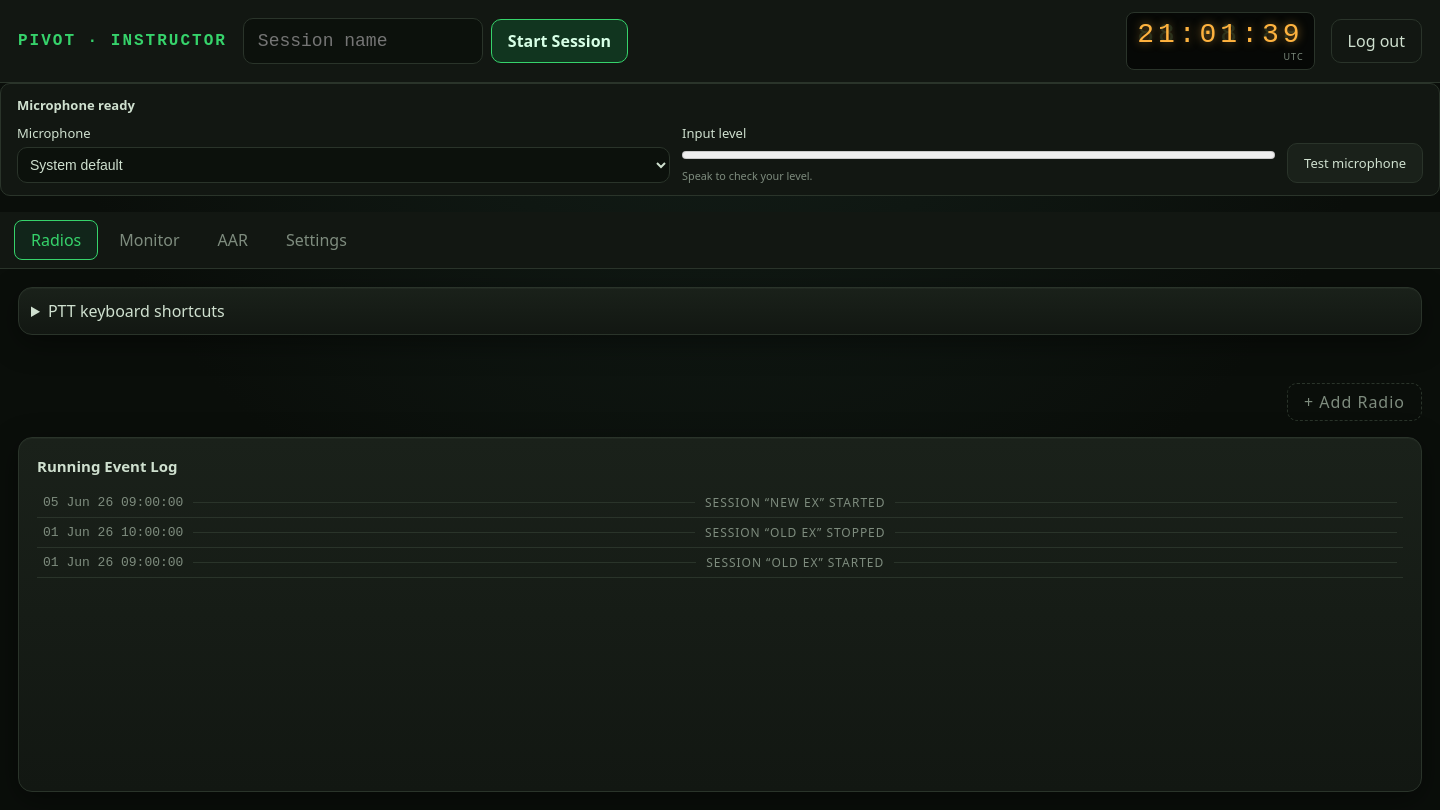
Scenario: InstructorConsole › AAR tab lists sessions newest-first and shows the selected session transmissions
The width and height of the screenshot is (1440, 810).
Click the tab "AAR" at (233, 240), box [200,220,265,260]
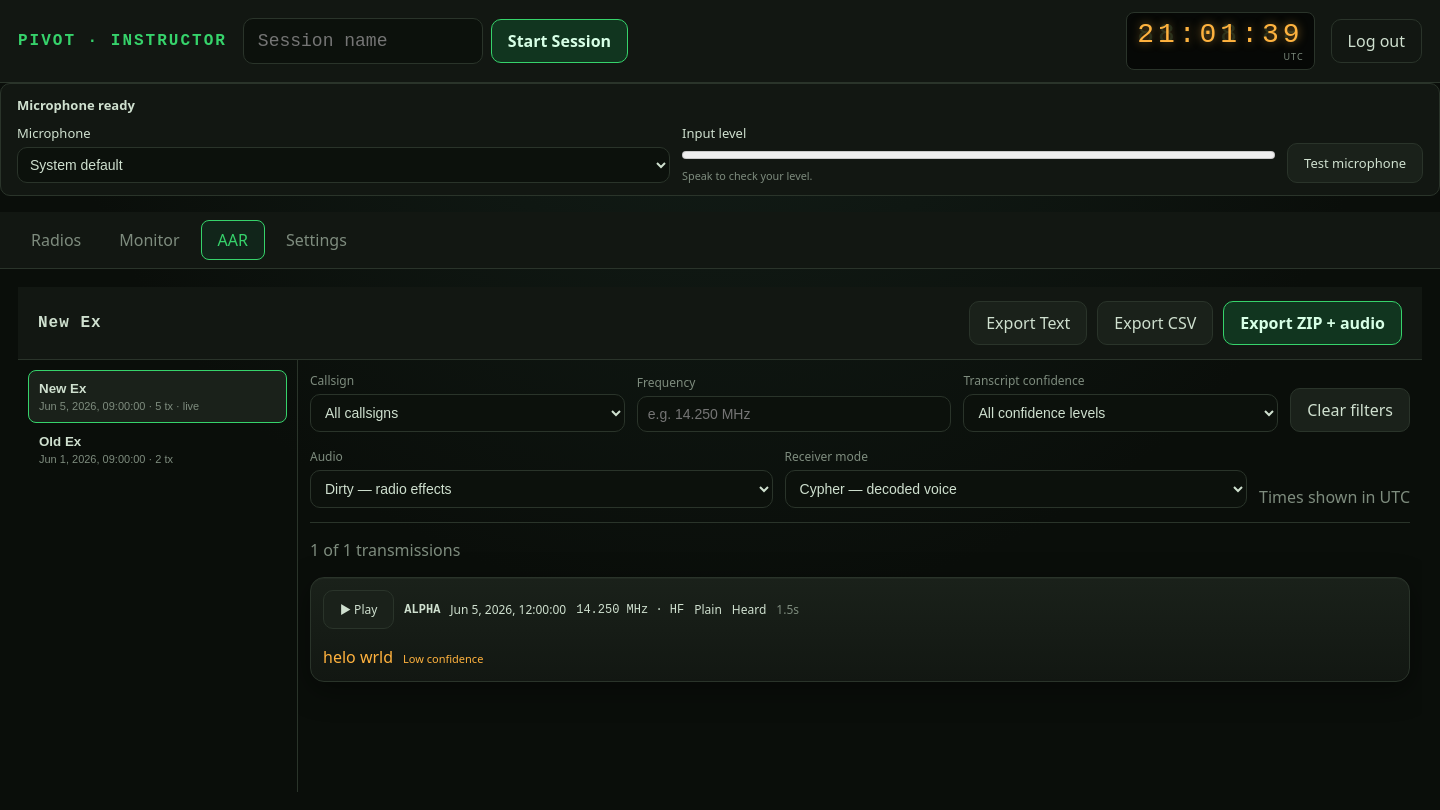
Check: the text "Old Ex" is shown, box [39,434,81,449]
Check: the text "helo wrld" is shown, box [323,646,393,668]
